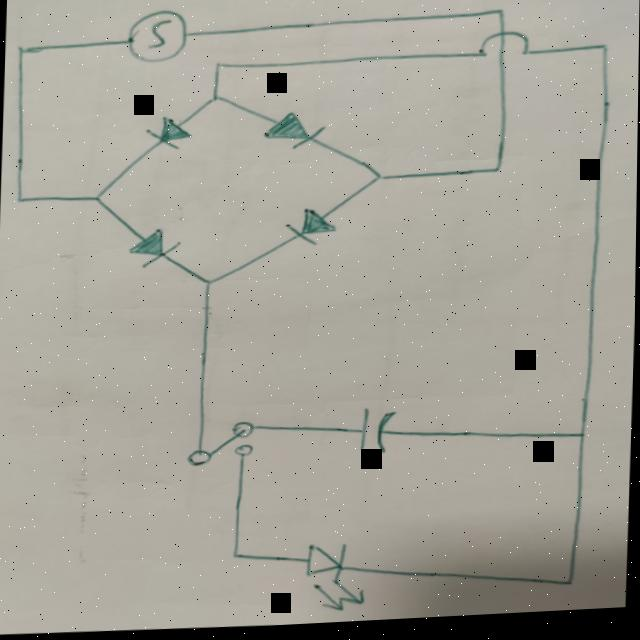capacitor: (355, 409, 400, 460)
crossover: (471, 32, 534, 68)
diode: (301, 544, 366, 615), (261, 112, 324, 153), (125, 228, 181, 271), (284, 210, 335, 250), (142, 115, 193, 152)
junction: (487, 168, 507, 184), (486, 11, 509, 24), (90, 192, 109, 206), (592, 46, 612, 59), (227, 551, 247, 564), (559, 582, 577, 596), (198, 277, 217, 290), (12, 44, 32, 56), (572, 434, 590, 447), (10, 193, 27, 206), (205, 94, 225, 105), (208, 62, 228, 72), (370, 175, 386, 186)
source: (123, 9, 189, 66)
switch: (187, 421, 257, 468)
